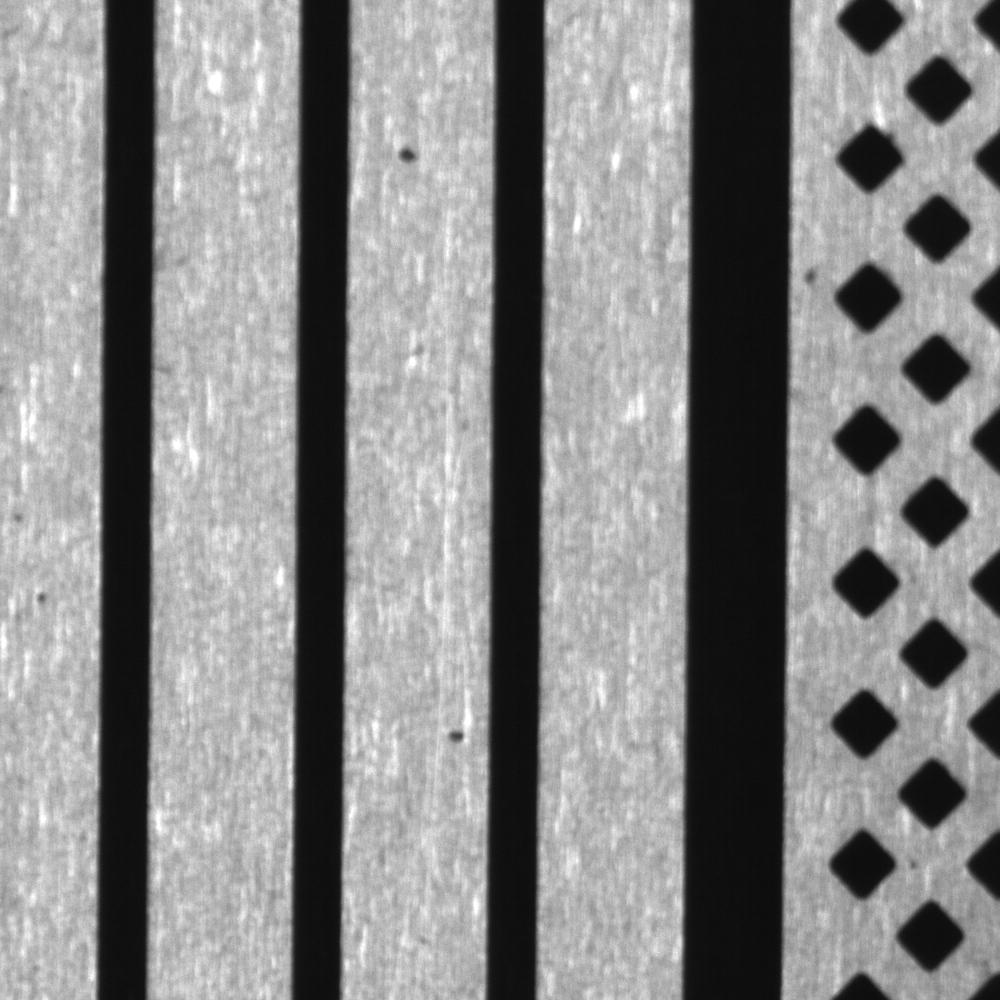Pinhole: (435, 710, 479, 764), (385, 126, 429, 180), (3, 501, 33, 534), (27, 579, 56, 611)
